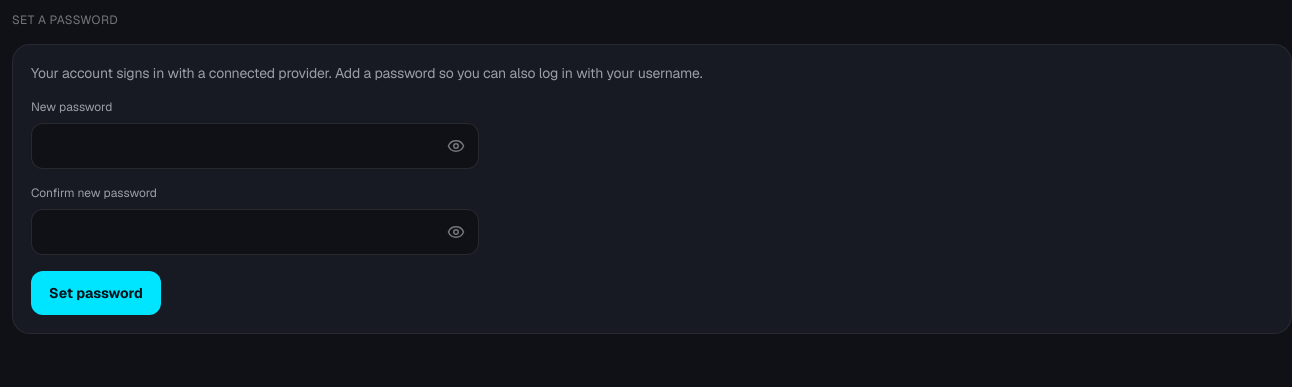
Test: SetPasswordSection › shows an error message when setting the password fails
Type "NewPassw0rd" into the password field labelled "New password" at [255, 146], box [31,123,479,169]
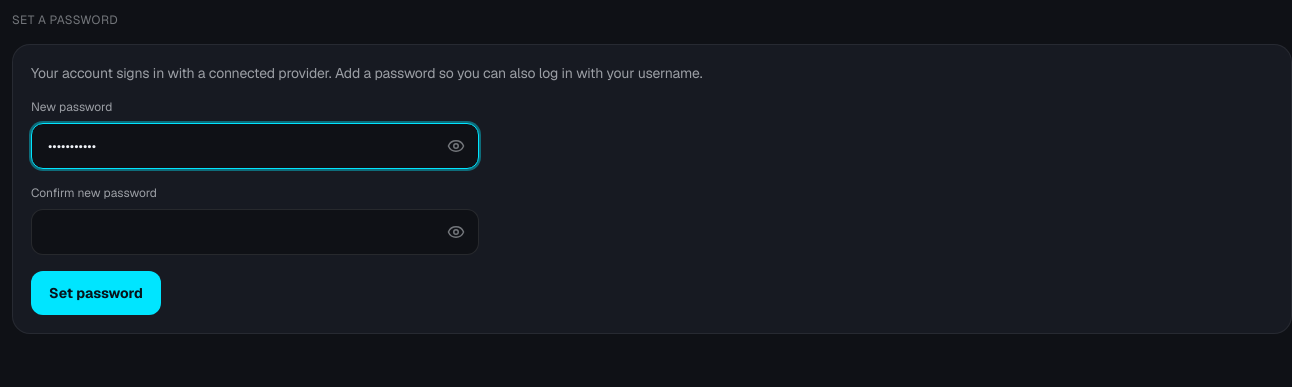
Type "NewPassw0rd" into the password field labelled "Confirm new password" at [255, 232], box [31,209,479,255]
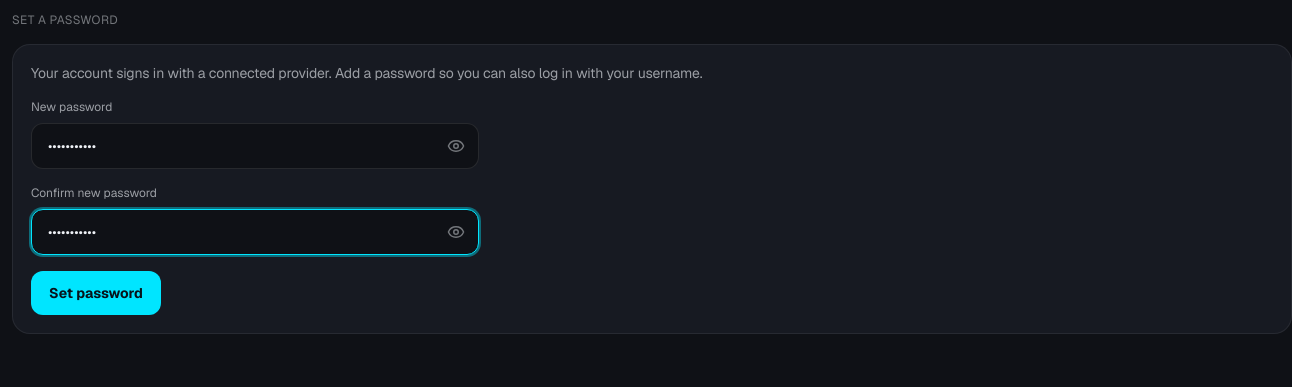
Click the button "Set password" at [96, 293], box [31,271,161,315]
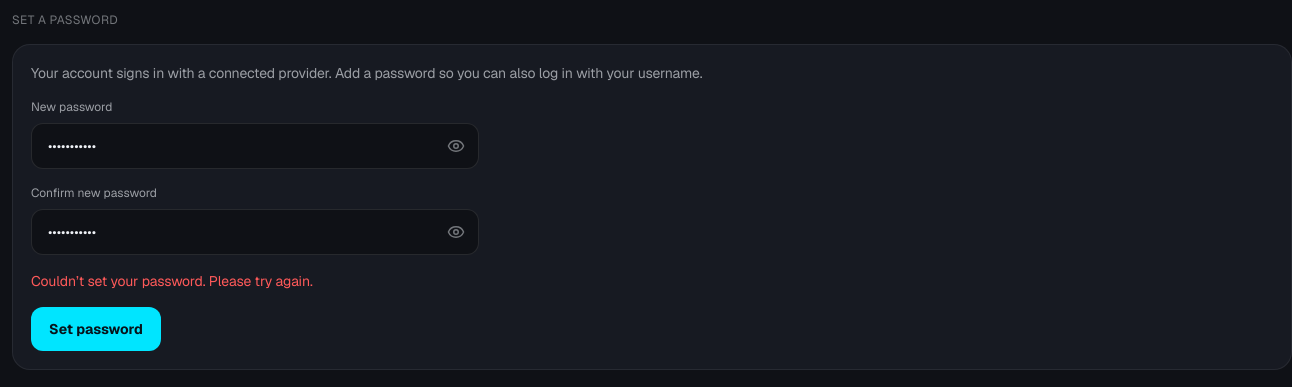
expect the text "Couldn’t set your password. Please try again." is shown: met, box [31,272,313,290]
